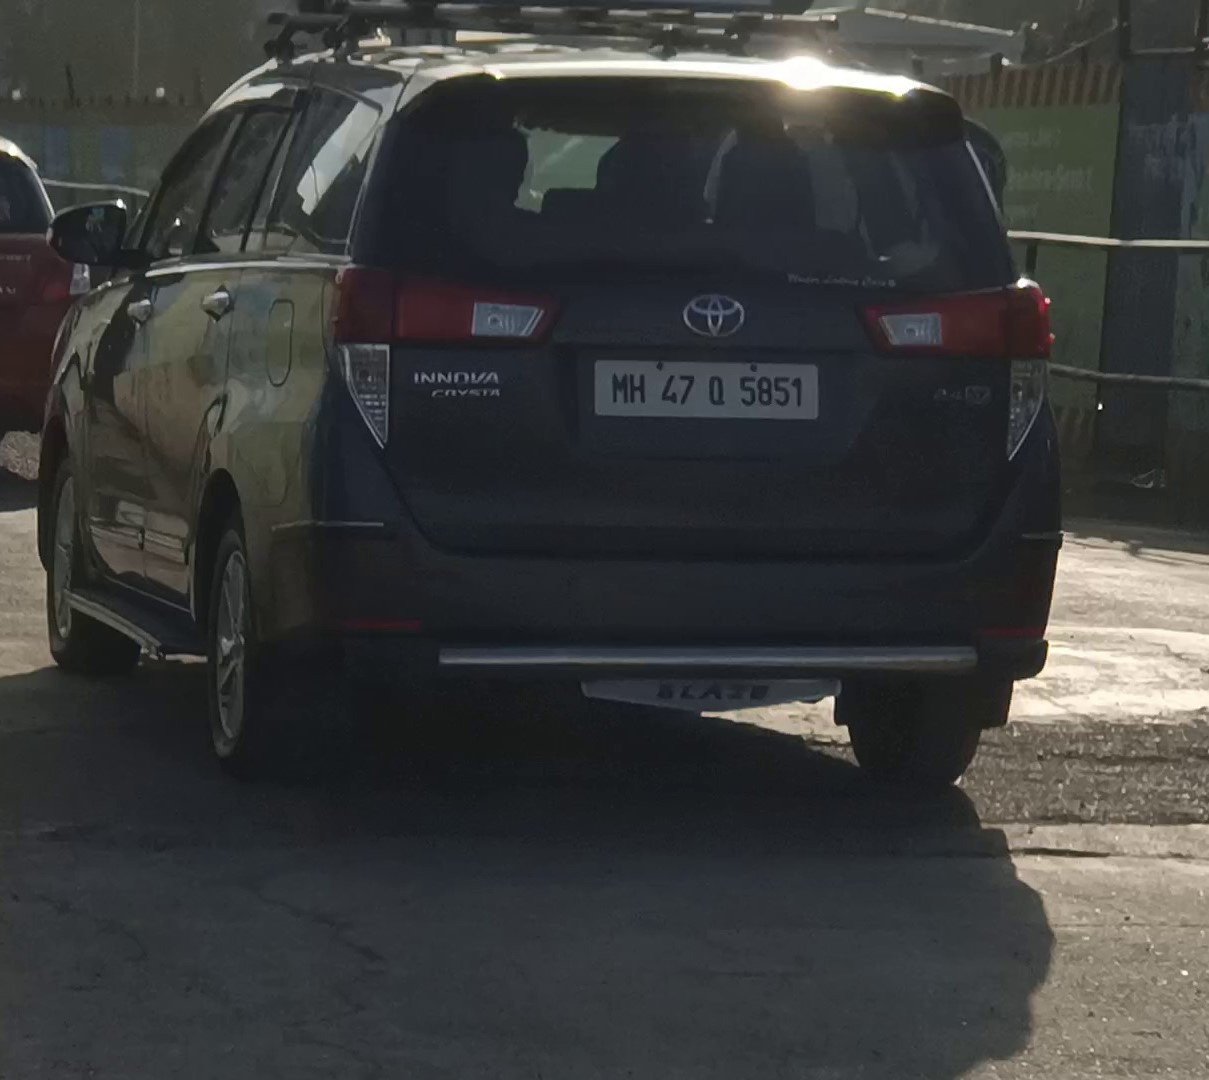MH4705851: (592, 358, 821, 421)
